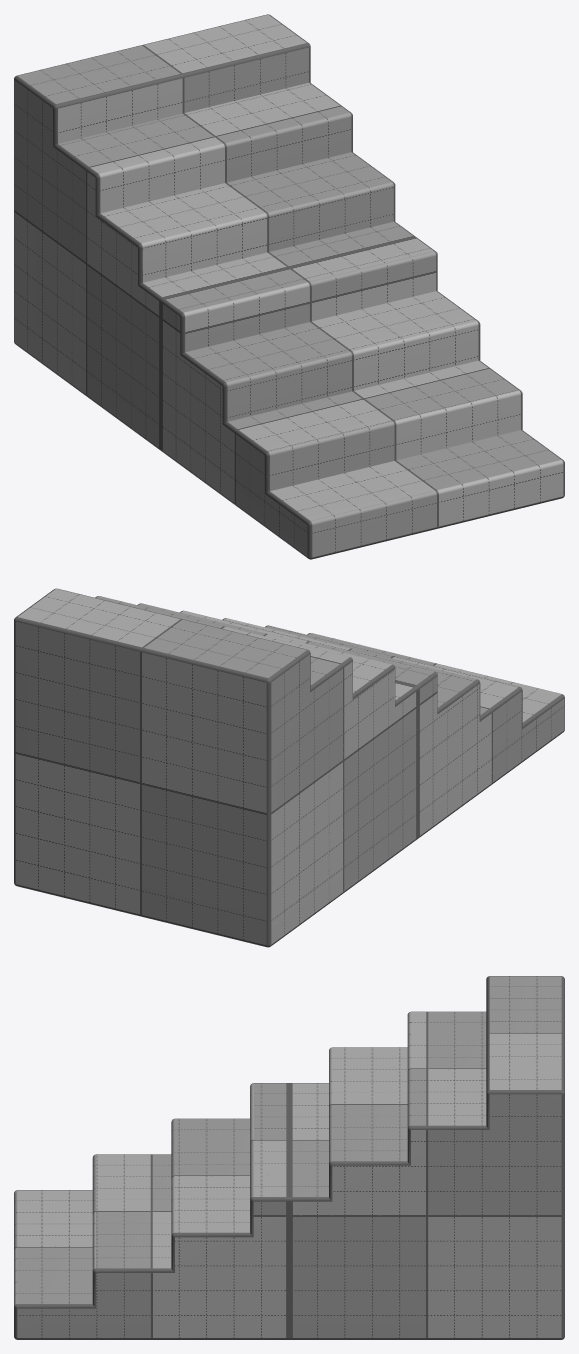
File: Stairs1x1x2.fbx
The picture shows the model from 3 angles, top to bottom: view 1: azimuth 30°, elevation 25°; view 2: azimuth 150°, elevation 25°; view 3: azimuth 270°, elevation 25°; orthographic projection. The views are drawn at different scales.
Visible parts, largest first — view 1: Stairs1x1x2; view 2: Stairs1x1x2; view 3: Stairs1x1x2.
Boxes of the visible parts, <box> form: Stairs1x1x2: <box>14,14,564,559</box>; Stairs1x1x2: <box>14,588,564,947</box>; Stairs1x1x2: <box>14,976,564,1339</box>.
Size of the model in its own units: 100 by 100 by 200.
